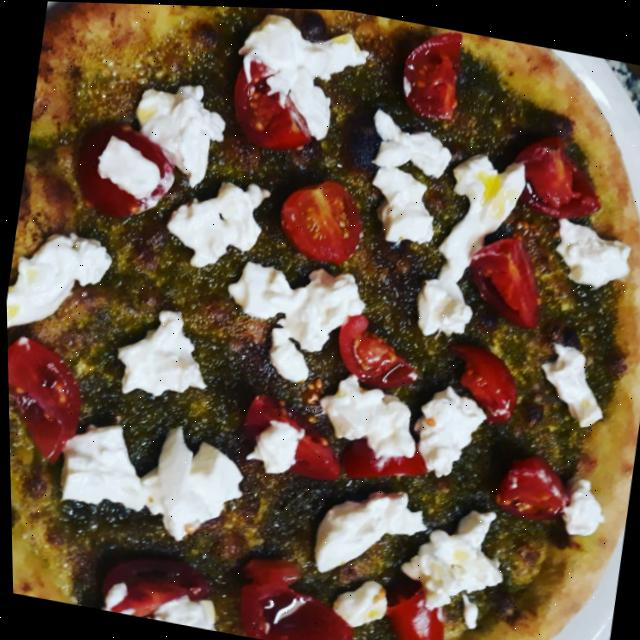pizza: (0, 0, 640, 640)
tomatoes: (60, 112, 183, 228), (226, 388, 351, 492), (226, 546, 364, 640), (90, 534, 216, 629), (6, 327, 89, 471), (218, 54, 321, 162), (507, 124, 618, 224), (269, 166, 373, 271), (456, 222, 551, 333), (482, 439, 576, 532), (391, 20, 473, 125), (330, 303, 422, 393), (335, 421, 432, 496), (445, 338, 522, 425), (373, 569, 451, 640)
